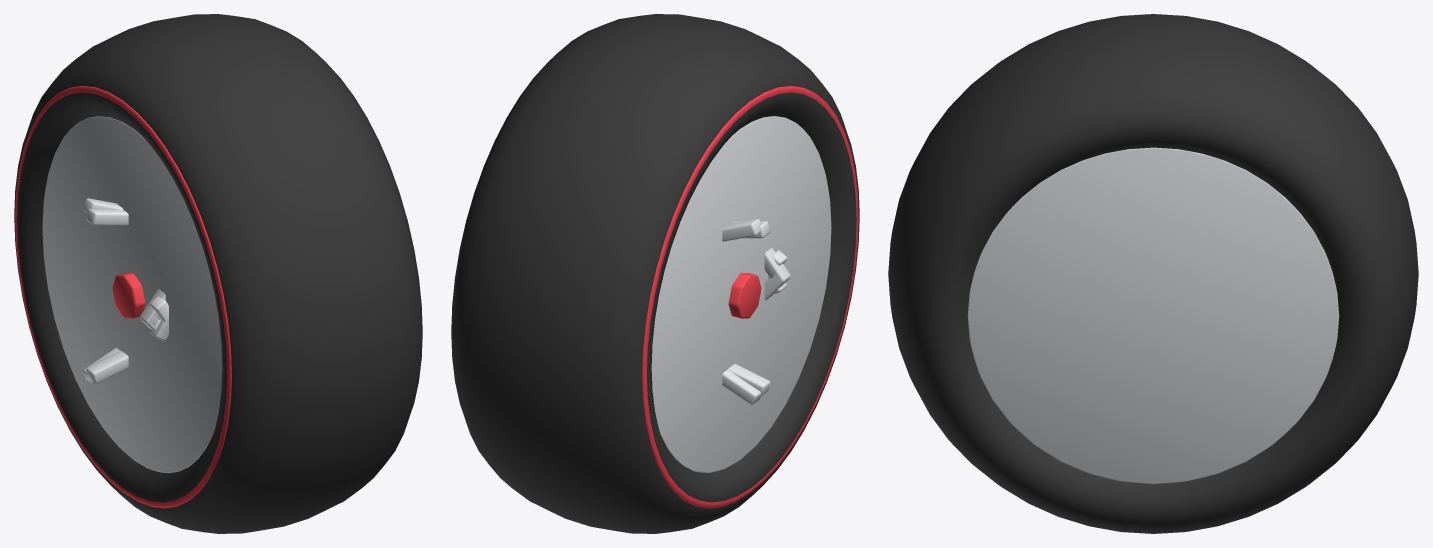
Rendered from hypercar_wheel_fl.glb.
3 views of the same model, side by side, from view 1: azimuth 30°, elevation 25°; view 2: azimuth 150°, elevation 25°; view 3: azimuth 270°, elevation 25° (orthographic).
Parts seen in each view (by area): view 1: Hypercar_Wheel_FL; view 2: Hypercar_Wheel_FL; view 3: Hypercar_Wheel_FL.
Part boxes in pixels (box(x1,y1,x2,y2)): Hypercar_Wheel_FL: box(14, 14, 422, 533); Hypercar_Wheel_FL: box(451, 14, 859, 533); Hypercar_Wheel_FL: box(888, 14, 1418, 533).
Bounding box in the file's own units: 0.3312 × 0.69 × 0.69.
